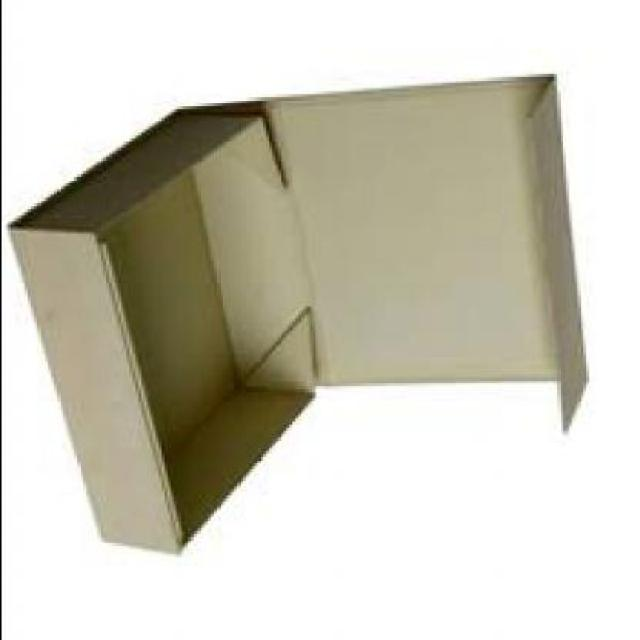CARDBOARD: (3, 71, 591, 548)
